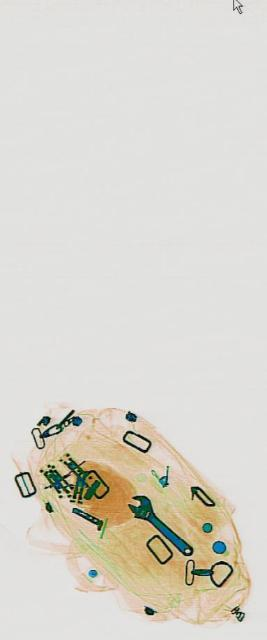Wrench: (126, 481, 193, 567)
